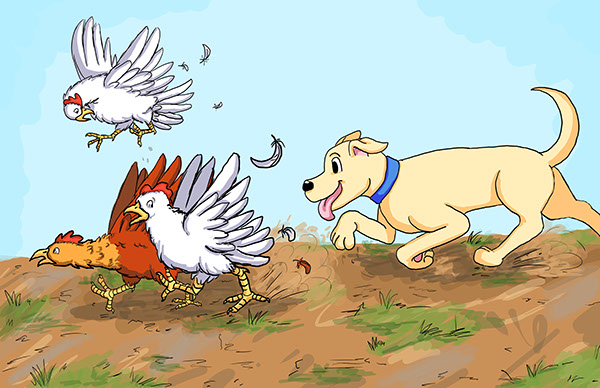bird: (131, 190, 303, 302), (57, 19, 199, 140), (59, 196, 177, 305)
dog: (300, 100, 600, 250)
